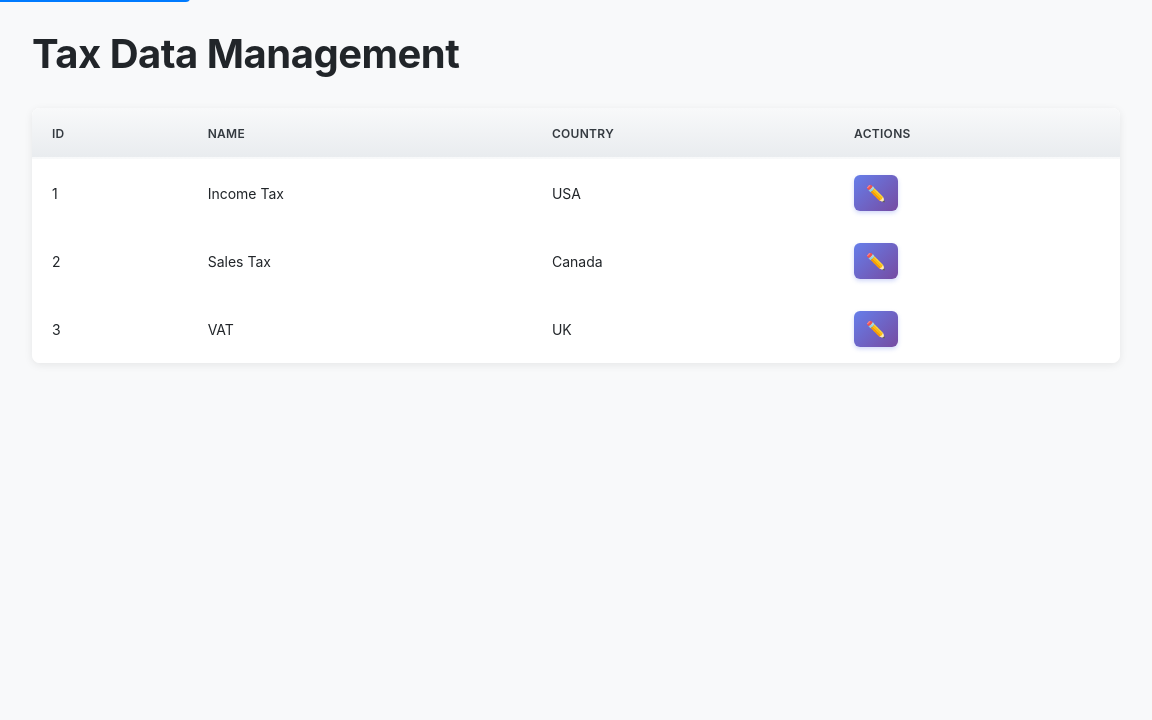
Test case: TaxTablePage Integration Tests › complete edit flow: open modal → edit → save → table updates
The width and height of the screenshot is (1152, 720).
Expected: the text "Income Tax" is shown, 188,159 -> 532,227
Expected: the text "Sales Tax" is shown, 188,227 -> 532,295
Click edit button for first record
Click the button named "edit". click: (876, 193)
box: 854,175 -> 898,211
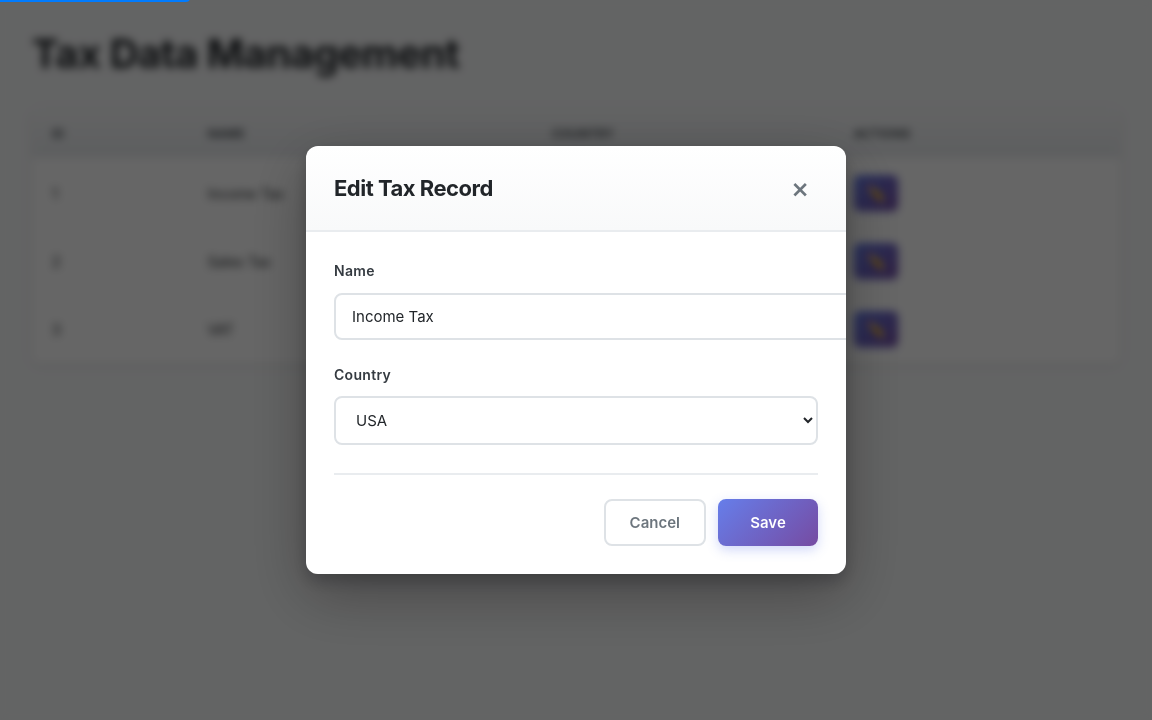
Expected: the dialog is shown
Expected: the field named "tax name" holds "Income Tax"
Edit the name
Clear the field named "tax name". click: (594, 316)
box: 334,292 -> 854,340
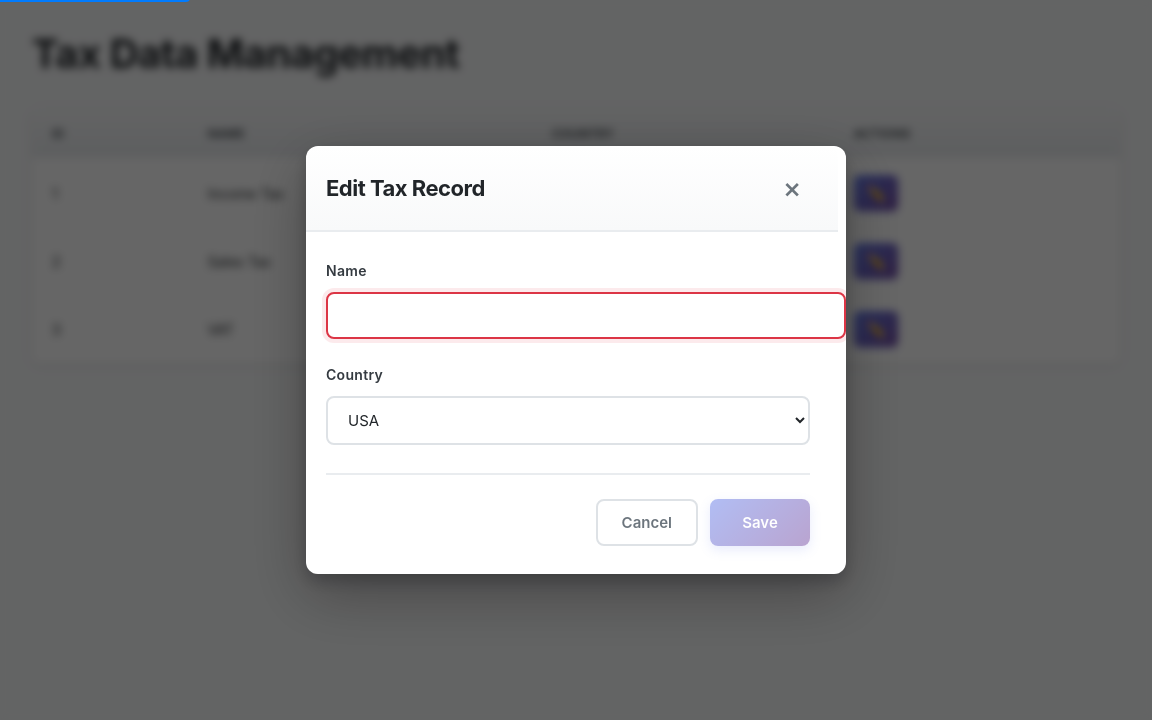
Type "Federal Income Tax" into the field named "tax name". click: (586, 315)
box: 326,292 -> 846,338
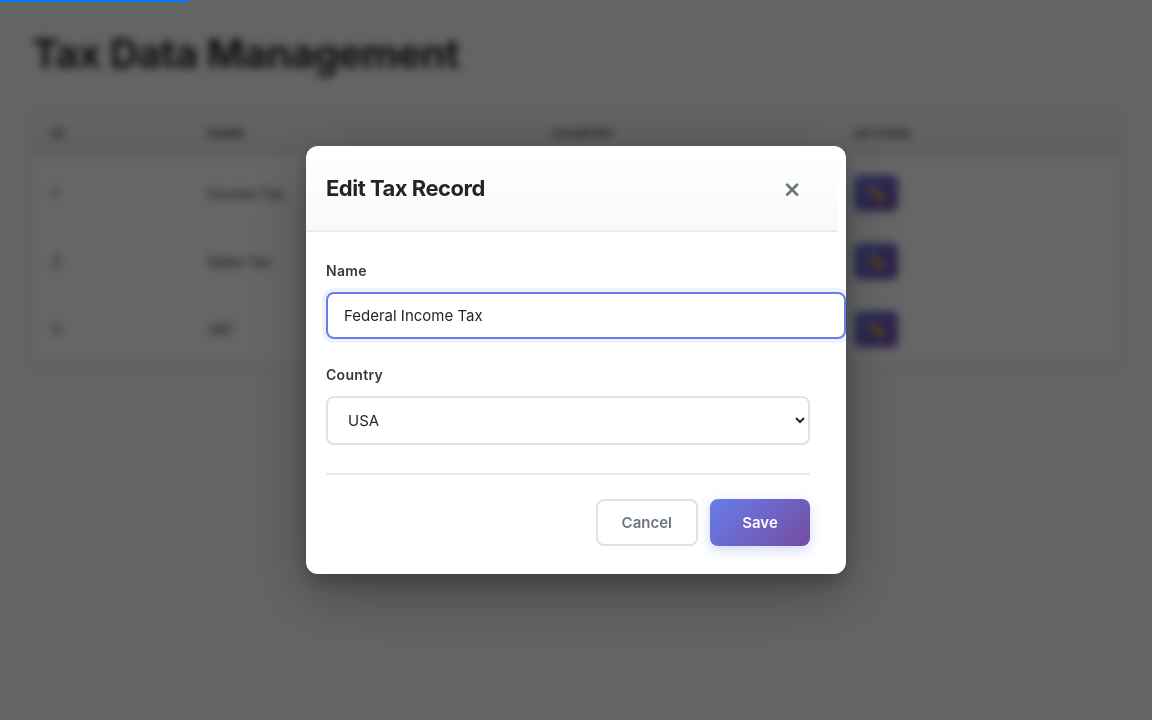
Change country
Select "Canada" in the dropdown labelled "Country". click: (568, 420)
box: 326,396 -> 810,445
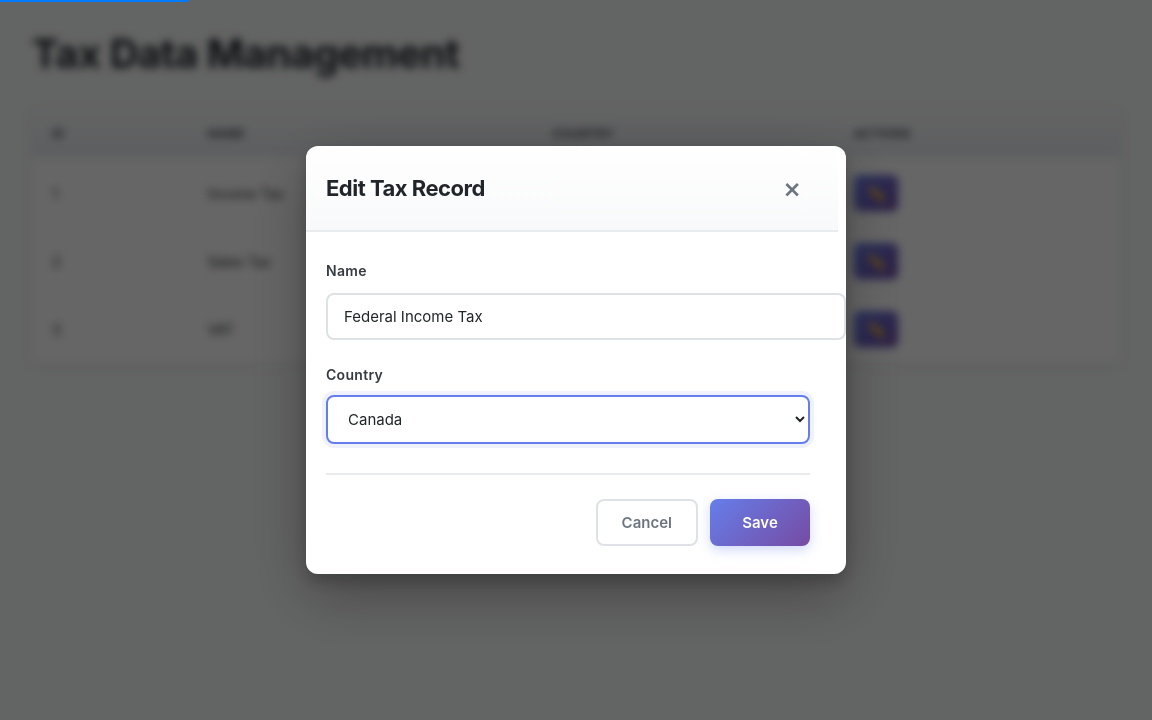
Click save button
Click the button "Save". click: (760, 522)
box: 710,499 -> 810,546
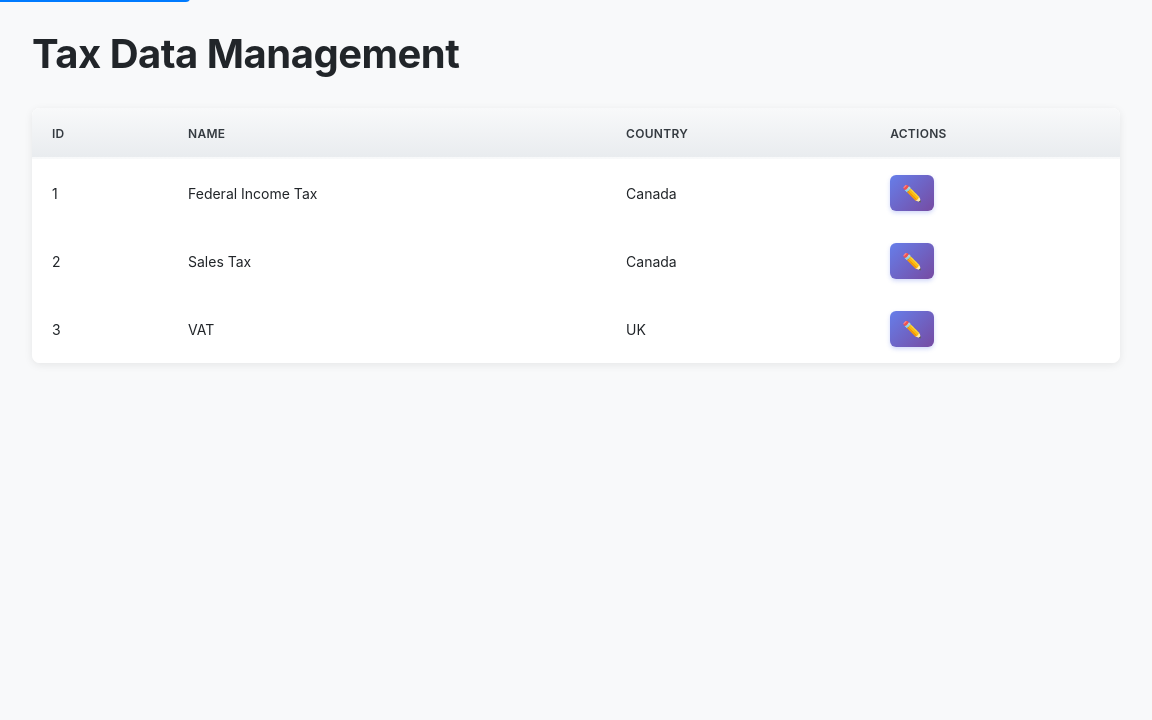
Expected: the dialog is gone
Expected: the text "Federal Income Tax" is shown, 168,159 -> 606,227
